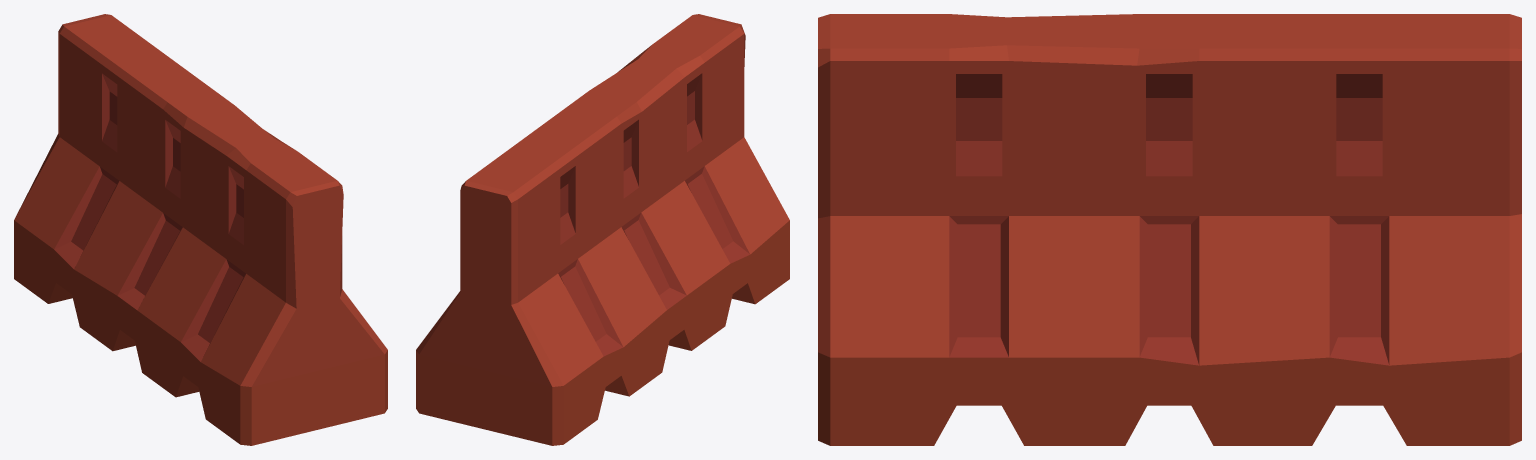
The model's file is dividers-jersey-barrier-plastic.glb.
3 renders of one model, left to right at view 1: azimuth 30°, elevation 25°; view 2: azimuth 150°, elevation 25°; view 3: azimuth 270°, elevation 25°, orthographic. The views are drawn at different scales.
Parts seen in each view (by area): view 1: jersey-barrier-plastic; view 2: jersey-barrier-plastic; view 3: jersey-barrier-plastic.
Boxes of the visible parts, x1=… form: jersey-barrier-plastic: x1=14, y1=14, x2=387, y2=445; jersey-barrier-plastic: x1=416, y1=14, x2=789, y2=445; jersey-barrier-plastic: x1=818, y1=14, x2=1521, y2=445.
Size of the model in its own units: 0.6543 by 1.02 by 1.8.
Materials: 1 (1 with a texture image).
